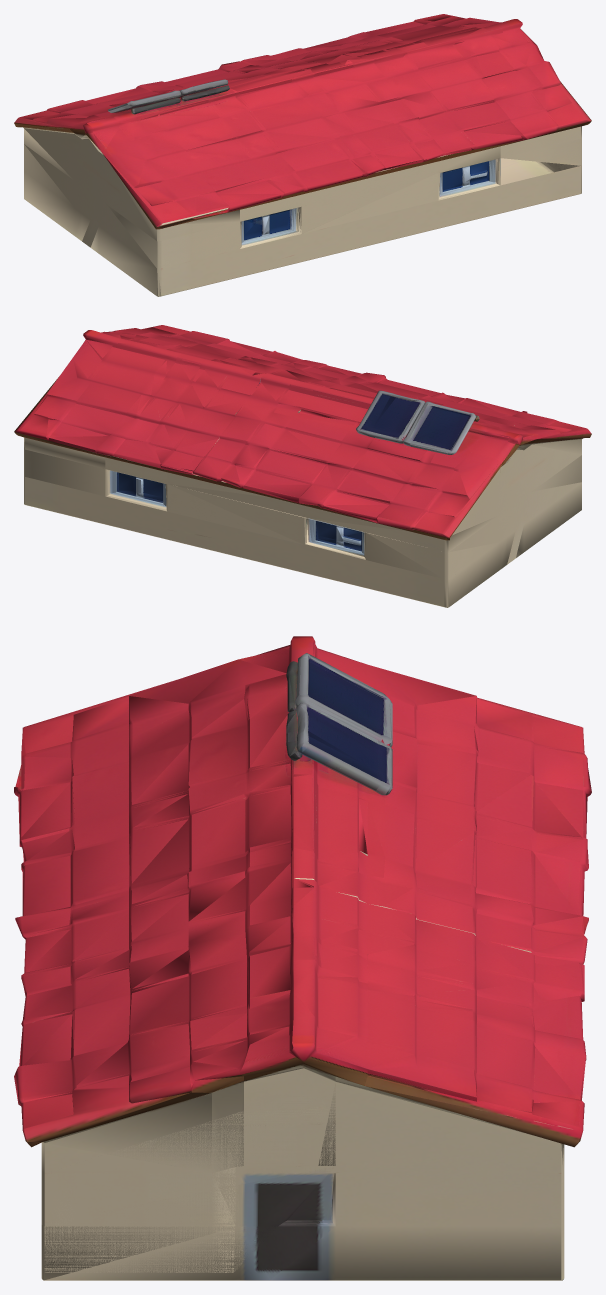
Rendered from placed_bld_556855836.glb.
3 renders of one model, top to bottom at view 1: azimuth 30°, elevation 25°; view 2: azimuth 150°, elevation 25°; view 3: azimuth 270°, elevation 25°, orthographic. The views are drawn at different scales.
Visible parts, largest first — view 1: bld_556855836; view 2: bld_556855836; view 3: bld_556855836.
Boxes of the visible parts, x1,y1,x2,y2 form: bld_556855836: [14, 14, 591, 296]; bld_556855836: [14, 325, 591, 607]; bld_556855836: [14, 636, 591, 1280].
Size of the model in its own units: 17.38 by 5.2 by 10.28.
Materials: 1 (1 with a texture image).
